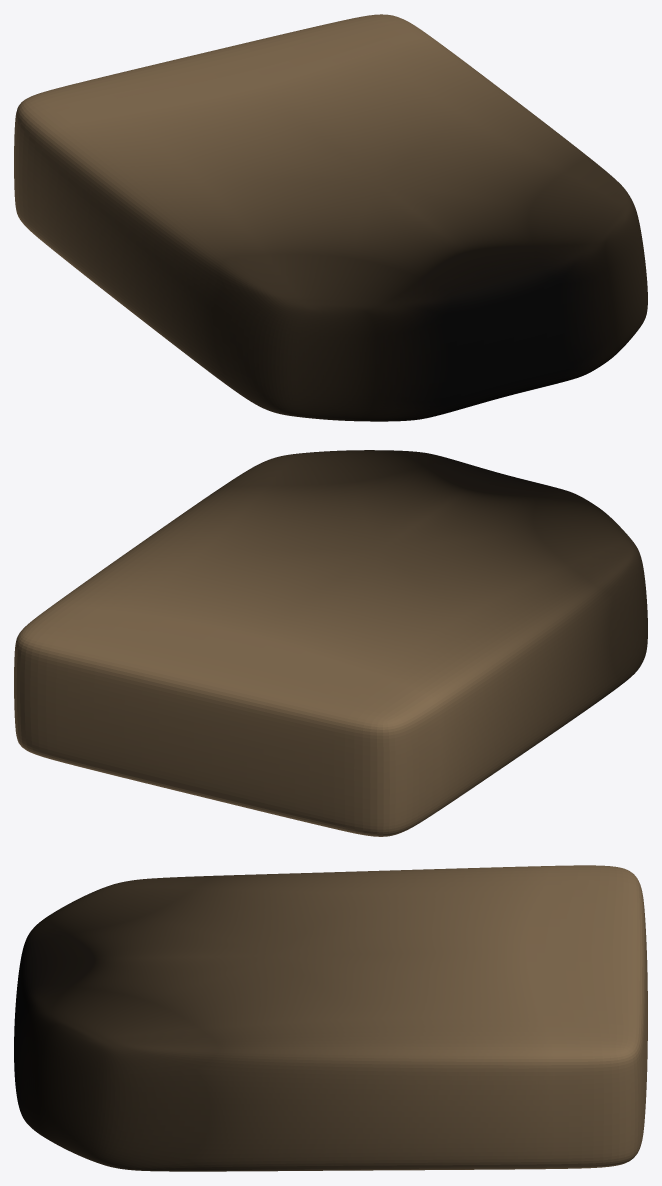
The model's file is 지우개_old.fbx.
3 renders of one model, top to bottom at view 1: azimuth 30°, elevation 25°; view 2: azimuth 150°, elevation 25°; view 3: azimuth 270°, elevation 25°, orthographic.
Parts seen in each view (by area): view 1: Cube; view 2: Cube; view 3: Cube.
Part boxes in pixels (bbox=[...]): Cube: bbox=[14, 14, 647, 421]; Cube: bbox=[14, 450, 647, 836]; Cube: bbox=[14, 865, 647, 1171].
Size of the model in its own units: 198 by 63.22 by 266.
